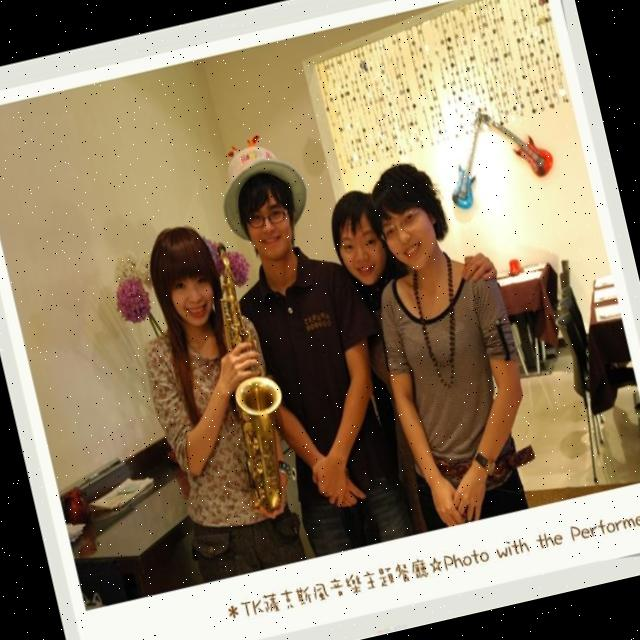saxophone: (185, 233, 312, 524)
